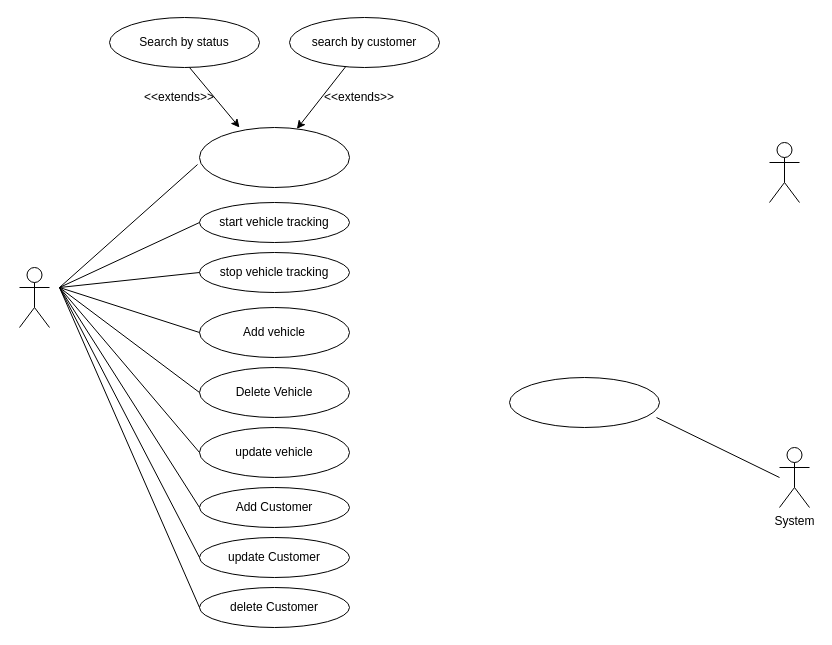
This 832x645 diagram has some shape labels left out. The shapes that lost their labels are listed below. From the top down, each one's box as (x1, y1, x2, y2) in pixels, then its label:
(198, 126, 350, 188): Search tracked vehicles
(768, 142, 800, 202): Customer
(18, 266, 50, 328): Admin
(508, 376, 660, 428): Send vehicle status change
